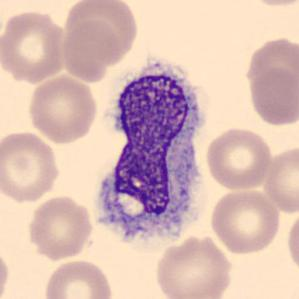Monocyte: (91, 52, 212, 257)
RBC: (152, 233, 235, 299), (26, 72, 100, 145), (0, 8, 69, 83), (208, 186, 282, 255), (62, 0, 140, 63), (203, 125, 274, 192), (0, 128, 62, 204), (25, 194, 95, 261), (59, 17, 124, 83), (243, 34, 298, 100), (246, 66, 298, 127), (41, 257, 115, 299), (261, 142, 298, 216), (285, 208, 299, 278), (0, 245, 11, 299), (242, 0, 298, 7)
